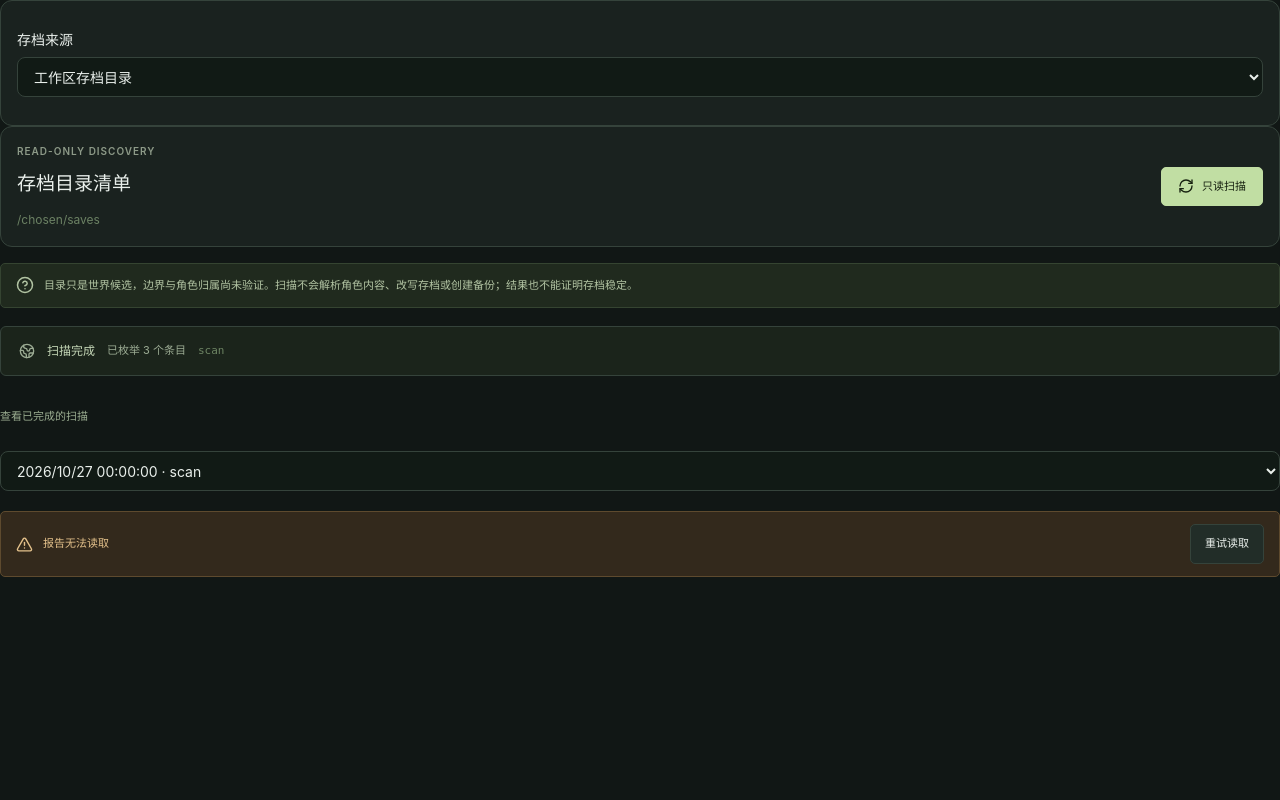
read-only inventory › does not pretend a failed report read succeeded and supports retry
Expected: the message shows "报告无法读取", 43,536 -> 109,550
Click the button "重试读取" at (1227, 544), box 1190,524 -> 1264,564
(page scrolled)
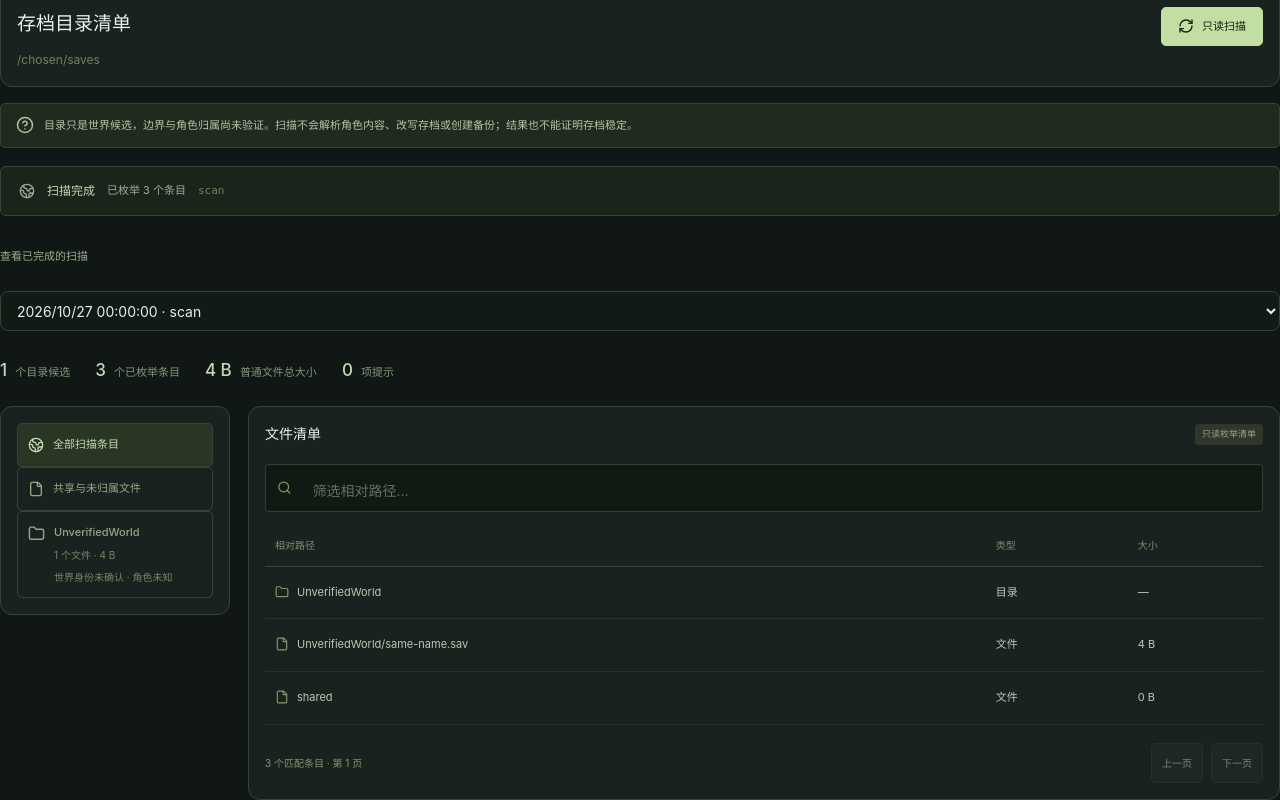
Expected: the table is shown, 265,524 -> 1263,724
